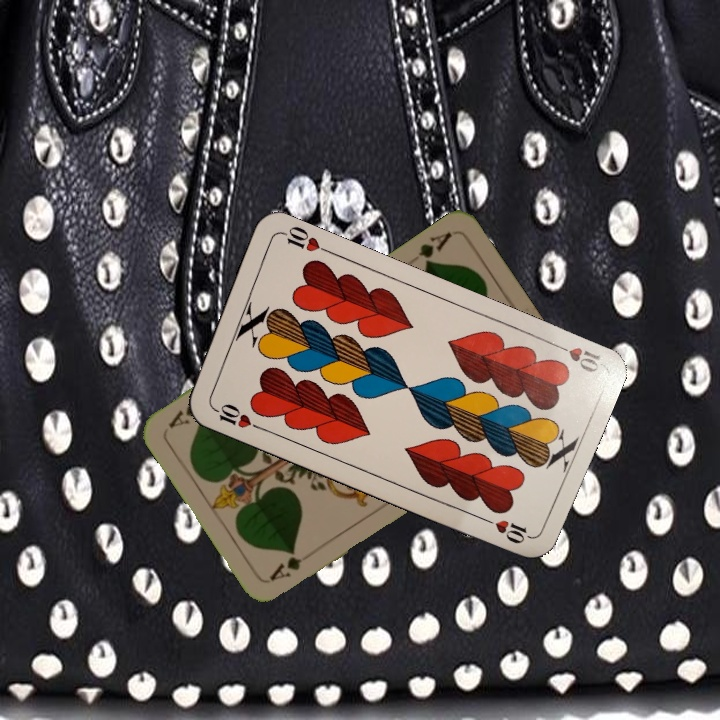GA: (414, 227, 455, 269), (265, 552, 305, 584)
H10: (547, 337, 603, 376), (207, 399, 264, 432)
